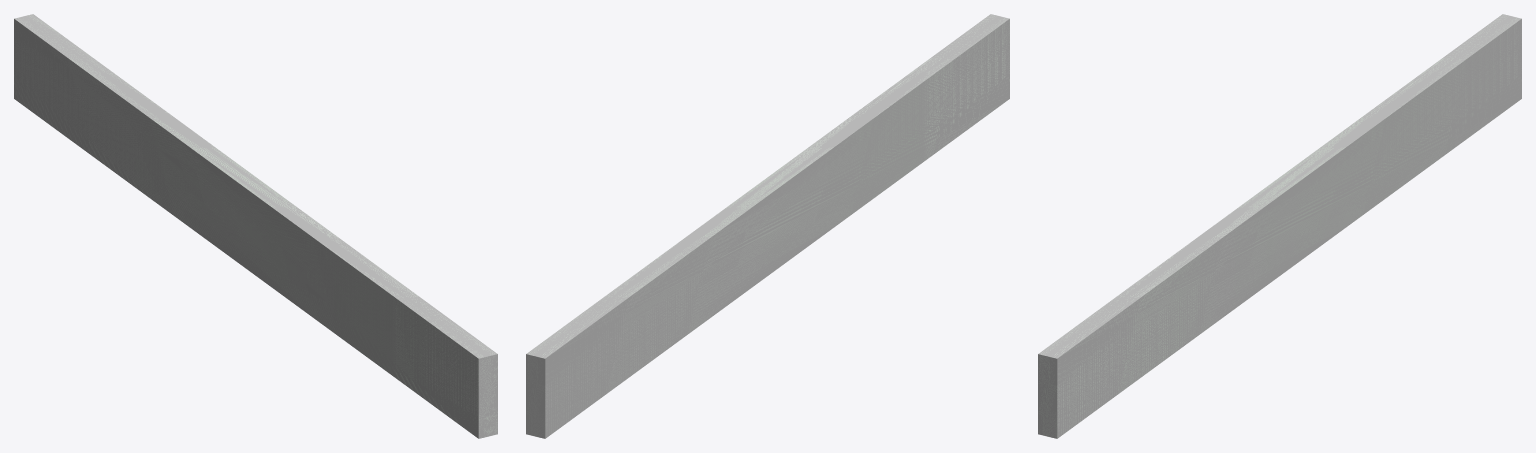
The model's file is original-29.obj.
3 views of the same model, side by side, from view 1: azimuth 30°, elevation 25°; view 2: azimuth 150°, elevation 25°; view 3: azimuth 330°, elevation 25° (orthographic).
Visible parts, largest first — view 1: TB1R1/TB1R/mesh22/mesh22-geometry#mesh22-geometry; view 2: TB1R1/TB1R/mesh22/mesh22-geometry#mesh22-geometry; view 3: TB1R1/TB1R/mesh22/mesh22-geometry#mesh22-geometry.
Boxes of the visible parts, bbox=[...] form: TB1R1/TB1R/mesh22/mesh22-geometry#mesh22-geometry: bbox=[14, 14, 497, 438]; TB1R1/TB1R/mesh22/mesh22-geometry#mesh22-geometry: bbox=[526, 14, 1009, 438]; TB1R1/TB1R/mesh22/mesh22-geometry#mesh22-geometry: bbox=[1038, 14, 1521, 438].
Size of the model in its own units: 0.0221 by 0.0884 by 0.9278.
